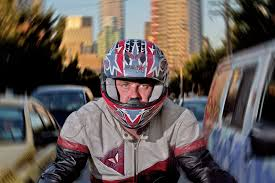helmet: (96, 38, 174, 129)
